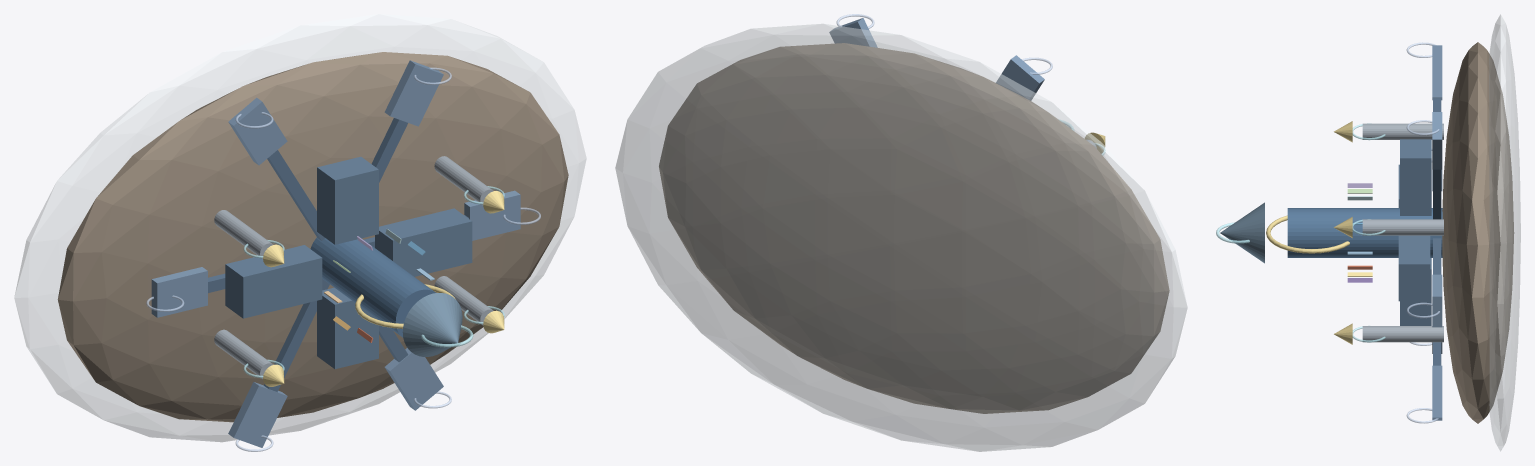
Rendered from SW_HQ_001_the_aerie_of_oaths.glb.
The picture shows the model from 3 angles, left to right: view 1: azimuth 30°, elevation 25°; view 2: azimuth 150°, elevation 25°; view 3: azimuth 270°, elevation 25°; orthographic projection. The views are drawn at different scales.
Visible parts, largest first — view 1: floating_island_core, cloud_cushion_outer, central_aerie_tower, oath_hall_west, barracks_north, navigation_hall_east, armory_south, central_aerie_roof, docking_platform_4, docking_platform_2, docking_platform_5, docking_platform_3 (+9 smaller); view 2: cloud_cushion_outer, floating_island_core, docking_platform_3, docking_platform_2; view 3: floating_island_core, cloud_cushion_outer, central_aerie_tower, barracks_north, navigation_hall_east, central_aerie_roof, wind_pylon_1, wind_pylon_3, wind_pylon_2, armory_south, docking_platform_2, docking_platform_6 (+5 smaller).
Part boxes in pixels (<box>): floating_island_core: <box>57,52,568,422</box>; cloud_cushion_outer: <box>14,14,586,442</box>; central_aerie_tower: <box>310,237,435,337</box>; oath_hall_west: <box>225,245,322,318</box>; barracks_north: <box>317,156,378,244</box>; navigation_hall_east: <box>375,208,472,276</box>; armory_south: <box>317,287,378,369</box>; central_aerie_roof: <box>402,293,462,356</box>; docking_platform_4: <box>151,267,207,317</box>; docking_platform_2: <box>384,60,443,126</box>; docking_platform_5: <box>228,382,287,447</box>; docking_platform_3: <box>228,97,287,165</box>; cloud_cushion_outer: <box>615,23,1187,451</box>; floating_island_core: <box>659,43,1169,413</box>; docking_platform_3: <box>996,55,1044,100</box>; docking_platform_2: <box>829,18,877,47</box>; floating_island_core: <box>1442,42,1514,423</box>; cloud_cushion_outer: <box>1489,14,1520,451</box>; central_aerie_tower: <box>1287,208,1442,257</box>; barracks_north: <box>1400,139,1431,215</box>; navigation_hall_east: <box>1398,235,1430,301</box>; central_aerie_roof: <box>1220,202,1264,263</box>; wind_pylon_1: <box>1362,219,1443,235</box>; wind_pylon_3: <box>1362,326,1443,342</box>; wind_pylon_2: <box>1362,123,1443,139</box>; armory_south: <box>1400,258,1431,325</box>; docking_platform_2: <box>1432,112,1442,169</box>; docking_platform_6: <box>1432,365,1442,420</box>.
Size of the model in its own units: 13 by 8.8 by 6.73.
